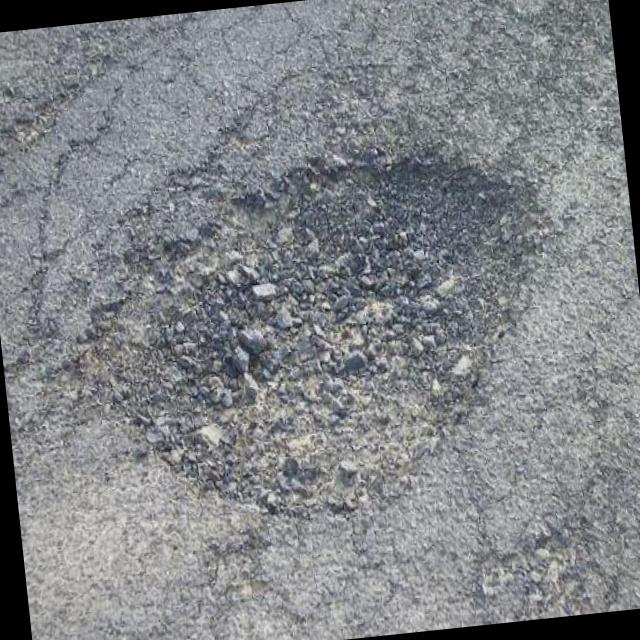pothole: (21, 106, 586, 548)
